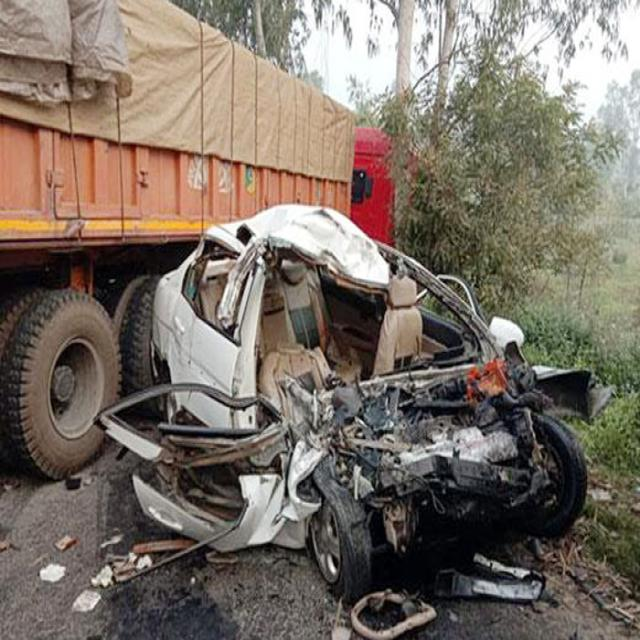accident: (99, 205, 590, 602), (0, 0, 398, 479)
